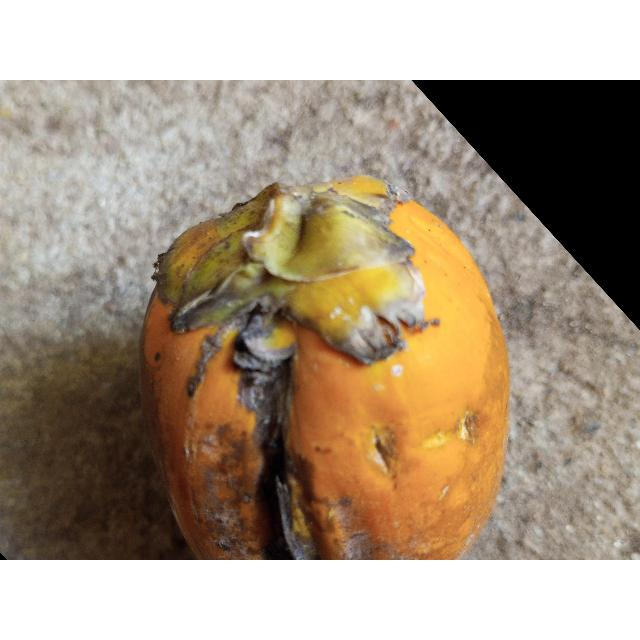damaged: (141, 177, 511, 560)
